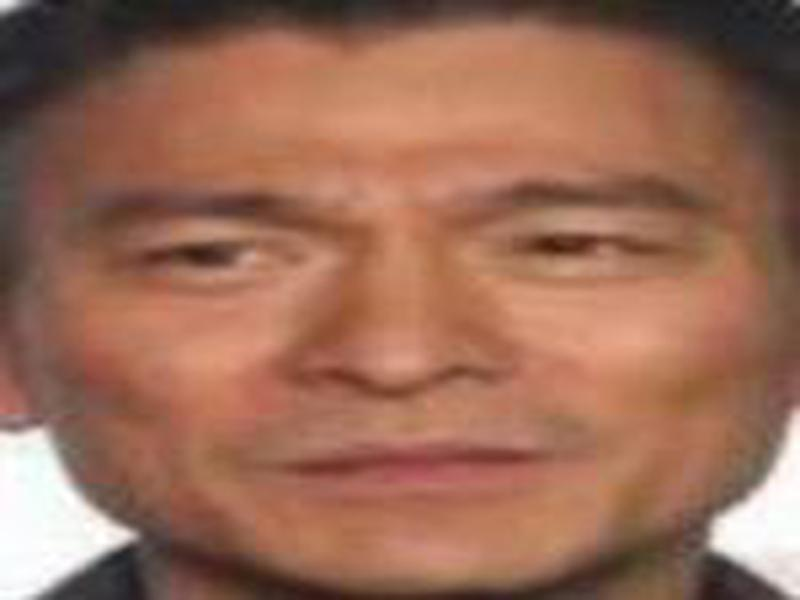without_mask: (17, 103, 800, 586)
